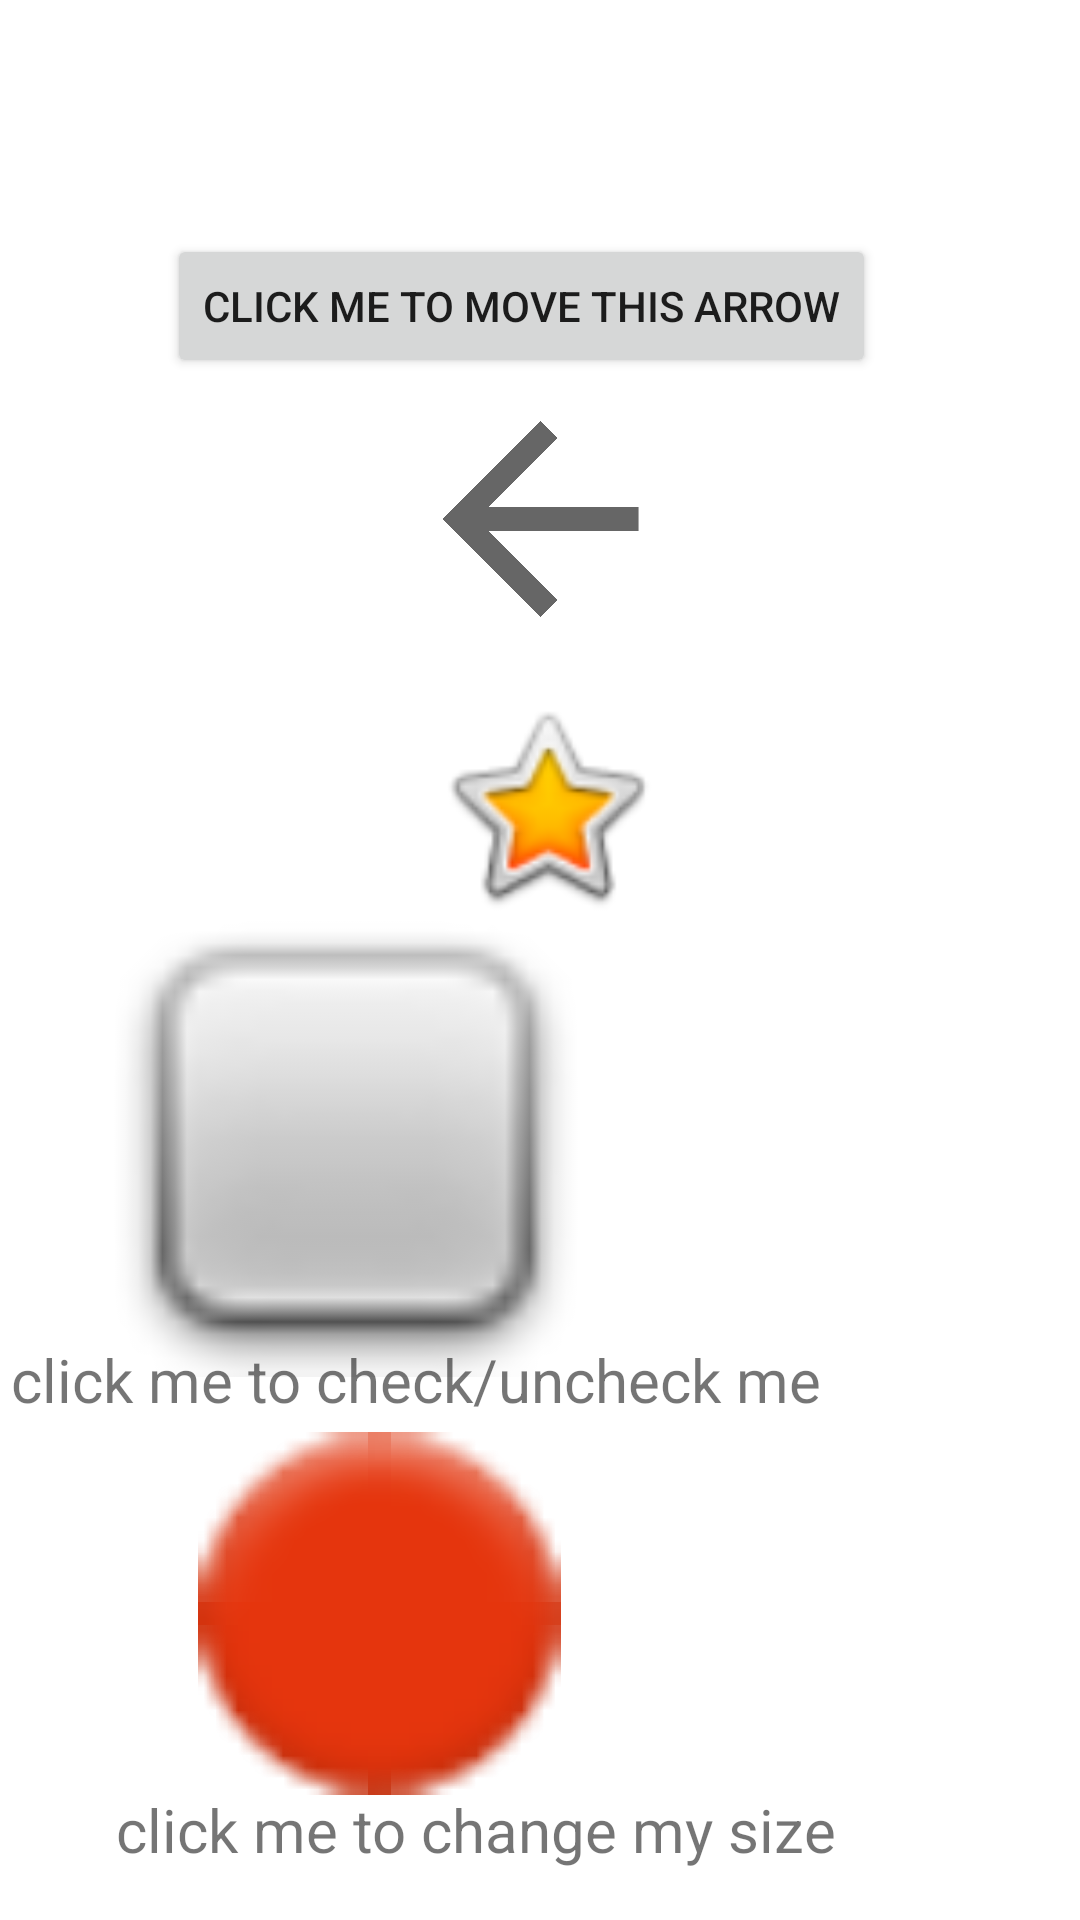

Where icons sit on this 1080x1920 app screen, as (x1, y1, x2, y2):
star on: (452, 714, 645, 902)
